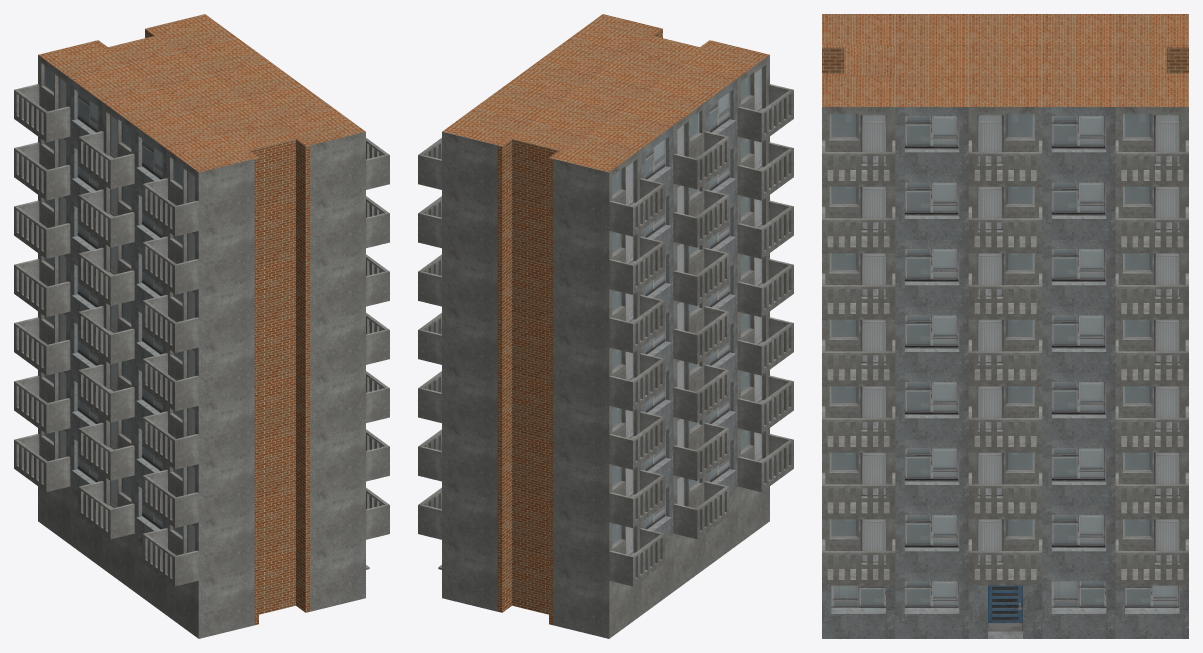
The model's file is building_10.fbx.
The picture shows the model from 3 angles, left to right: view 1: azimuth 30°, elevation 25°; view 2: azimuth 150°, elevation 25°; view 3: azimuth 270°, elevation 25°; orthographic projection. The views are drawn at different scales.
Parts seen in each view (by area): view 1: Building_10; view 2: Building_10; view 3: Building_10.
Boxes of the visible parts, x1,y1,x2,y2 form: Building_10: (14,14,389,638); Building_10: (418,14,793,638); Building_10: (822,14,1188,638).
Bounding box in the file's own units: 1650 × 1273 × 2640.
